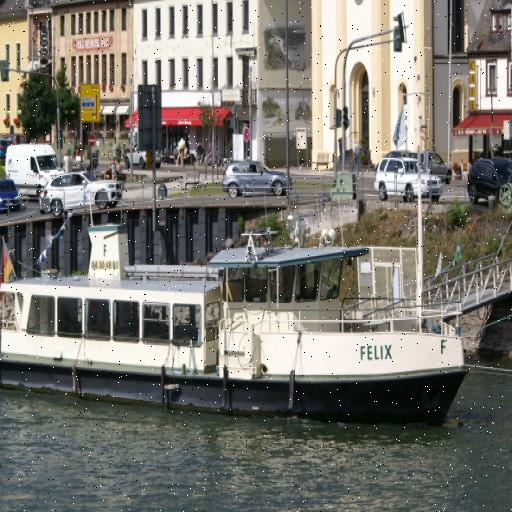tugboat: (1, 201, 473, 440)
